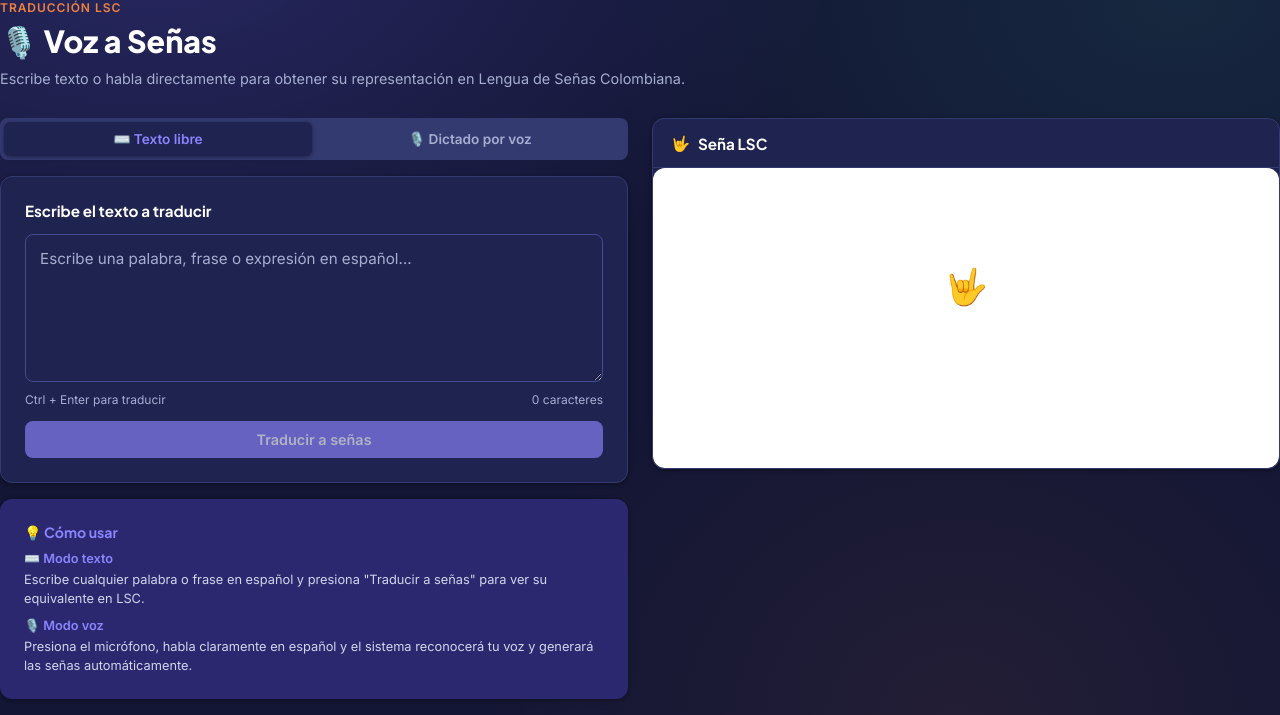
Test: VoiceToSign › should show an error when the backend is down
Type "123" into the text box with placeholder "Escribe una palabra, frase o expresión en español…" at (314, 308), box [25,234,603,382]
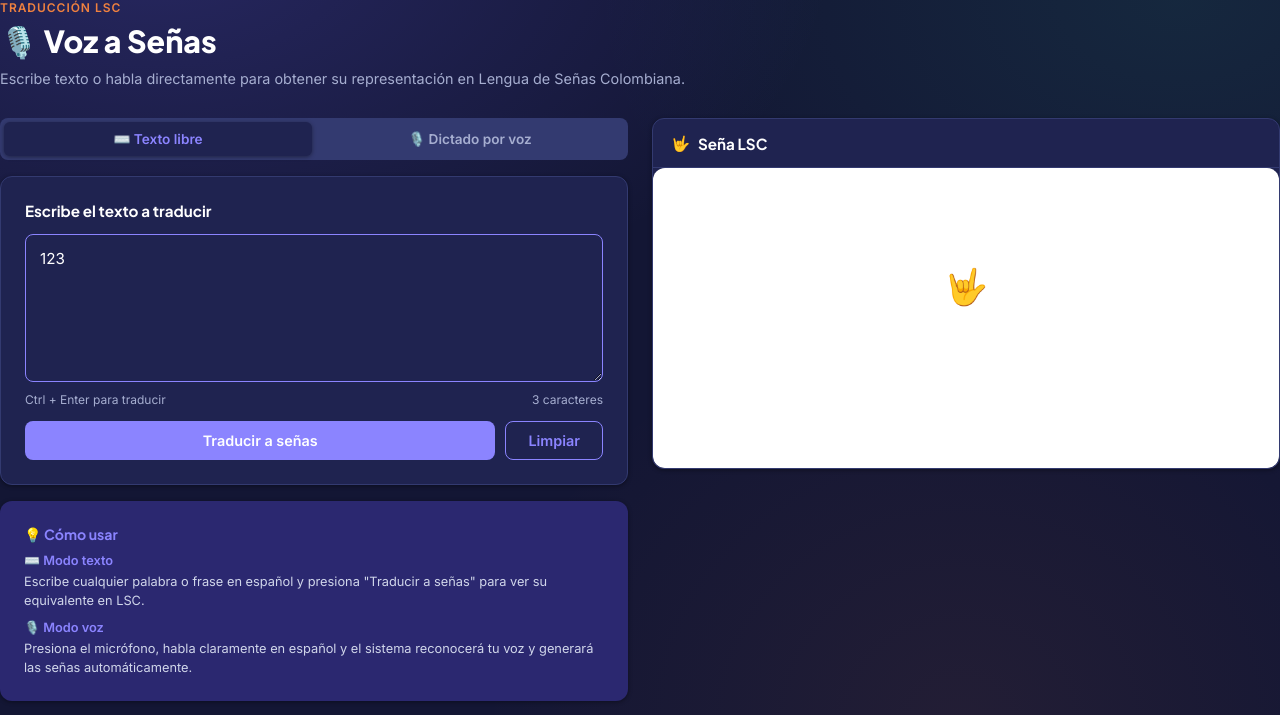
Click the button "Traducir a señas" at (260, 440), box [25,420,495,460]
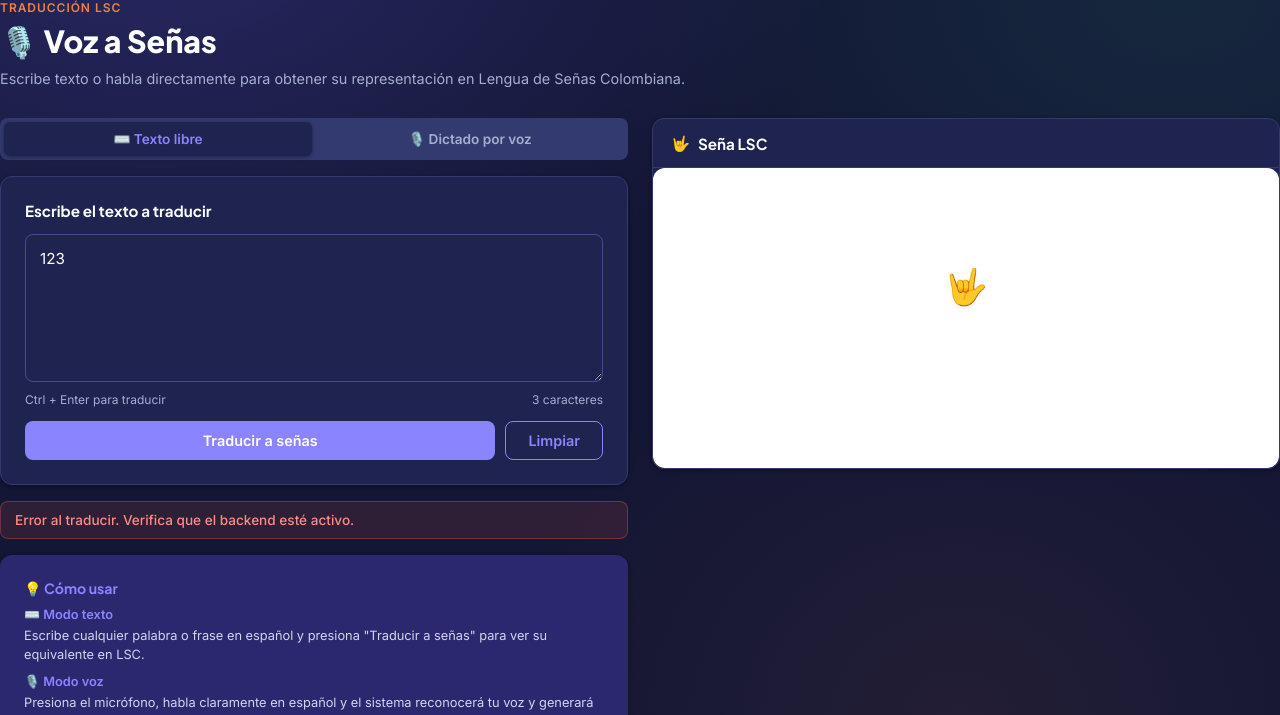
expect the text "Error al traducir. Verifica que el backend esté activo." is shown: met, box [0,500,628,538]
